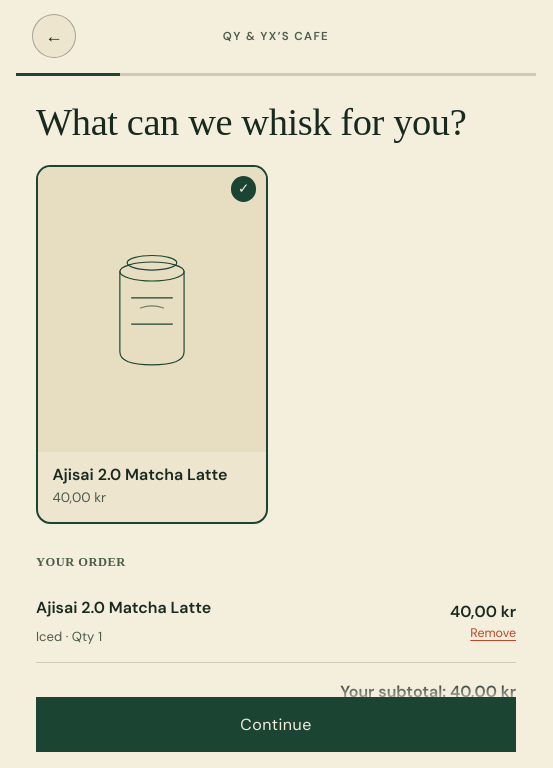
Test: OrderFlowPage › requires an email for guests before continuing past the contact step
Click the button "Continue": (276, 724) [36,697,516,752]
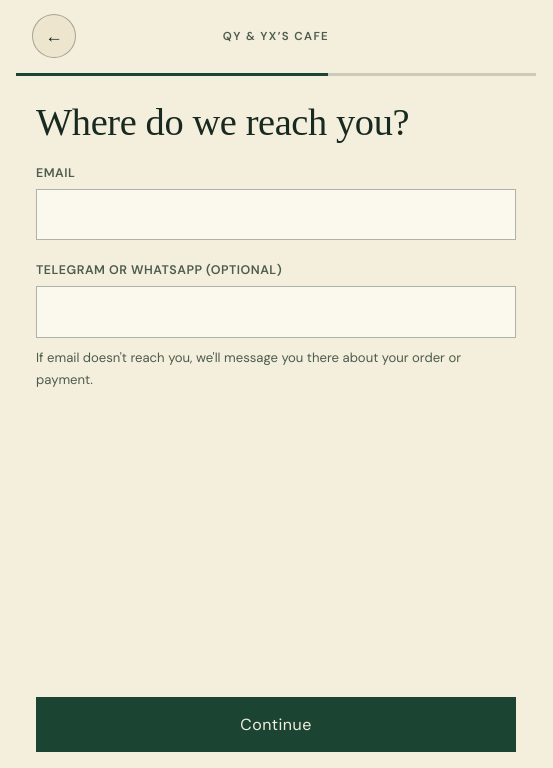
Now the field labelled "Email" is shown, box [36,189,516,240]
Click the button "Continue": (276, 724) [36,697,516,752]
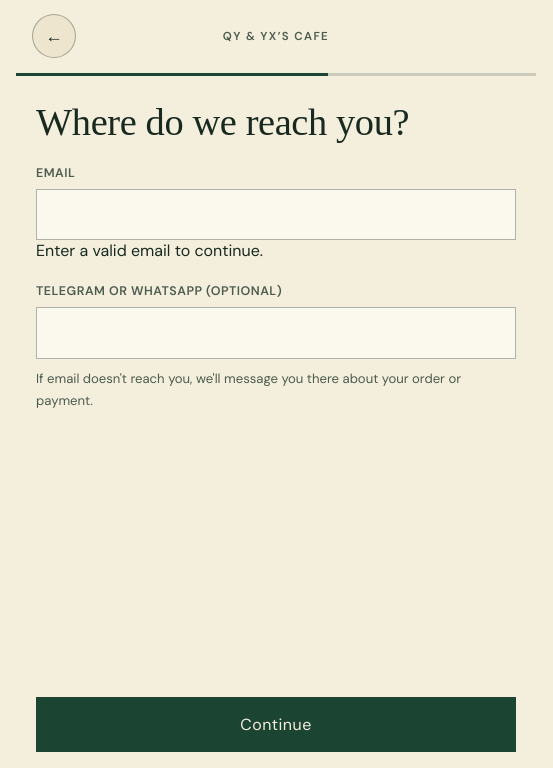
Now the message reads "Enter a valid email to continue.", box [36,240,263,261]
